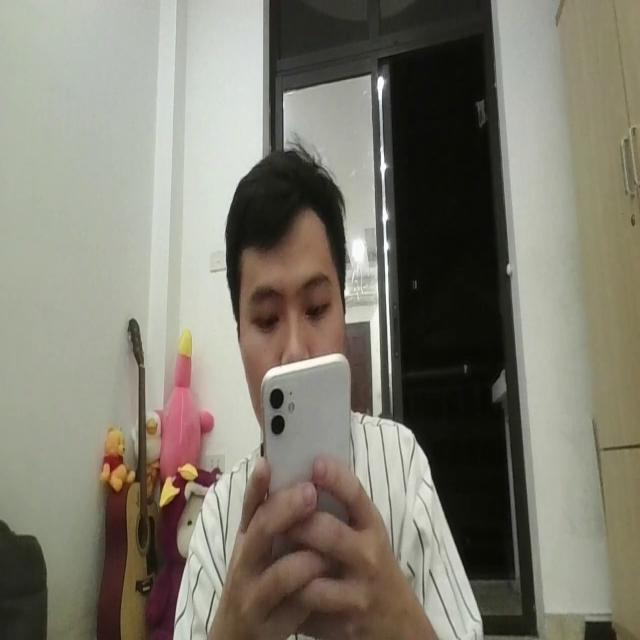phone: (258, 352, 354, 534)
student: (177, 148, 483, 640)
